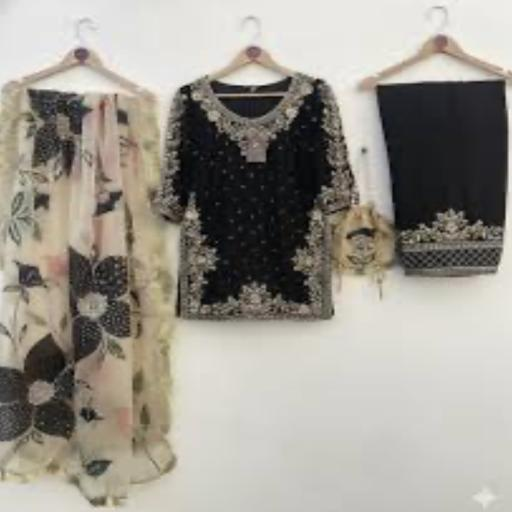dupatta: (0, 75, 179, 504)
kameez: (154, 68, 354, 326)
shalwar: (367, 59, 512, 275)
